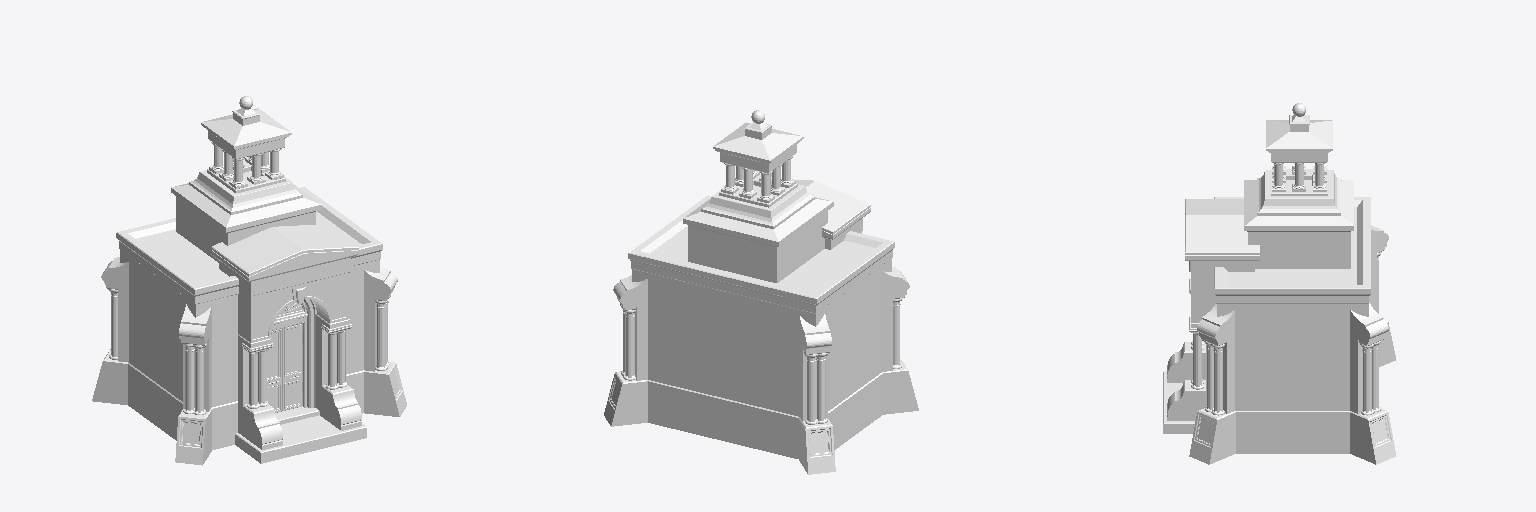
File: Mausoleum.obj
3 views of the same model, side by side, from view 1: azimuth 30°, elevation 25°; view 2: azimuth 150°, elevation 25°; view 3: azimuth 270°, elevation 25° (orthographic).
Visible parts, largest first — view 1: Outerwall_1_0_0, Doorway_1_0_0, Spire_1_0_0, Doorwayfuneraldr_1_0, Doorwayfuneraldl_1_0; view 2: Outerwall_1_0_0, Spire_1_0_0, Doorway_1_0_0; view 3: Outerwall_1_0_0, Spire_1_0_0, Doorway_1_0_0.
Boxes of the visible parts, <box> form: Outerwall_1_0_0: <box>92,187,406,465</box>; Doorway_1_0_0: <box>211,220,366,463</box>; Spire_1_0_0: <box>171,96,321,262</box>; Doorwayfuneraldr_1_0: <box>282,323,302,410</box>; Doorwayfuneraldl_1_0: <box>266,328,281,412</box>; Outerwall_1_0_0: <box>604,196,918,474</box>; Spire_1_0_0: <box>683,110,833,282</box>; Doorway_1_0_0: <box>792,179,870,249</box>; Outerwall_1_0_0: <box>1189,197,1395,464</box>; Spire_1_0_0: <box>1244,103,1353,268</box>; Doorway_1_0_0: <box>1163,199,1259,433</box>.
Bounding box in the file's own units: 49.44 × 61.97 × 42.99.